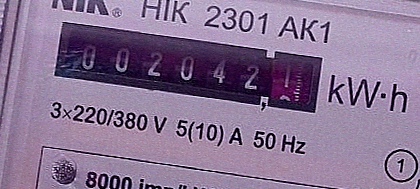0: (77, 42, 99, 74), (111, 45, 132, 78), (176, 53, 197, 85)
1: (277, 61, 295, 93)
2: (144, 50, 165, 81), (241, 62, 262, 93)
4: (208, 55, 230, 89)
screen: (48, 18, 329, 124)
